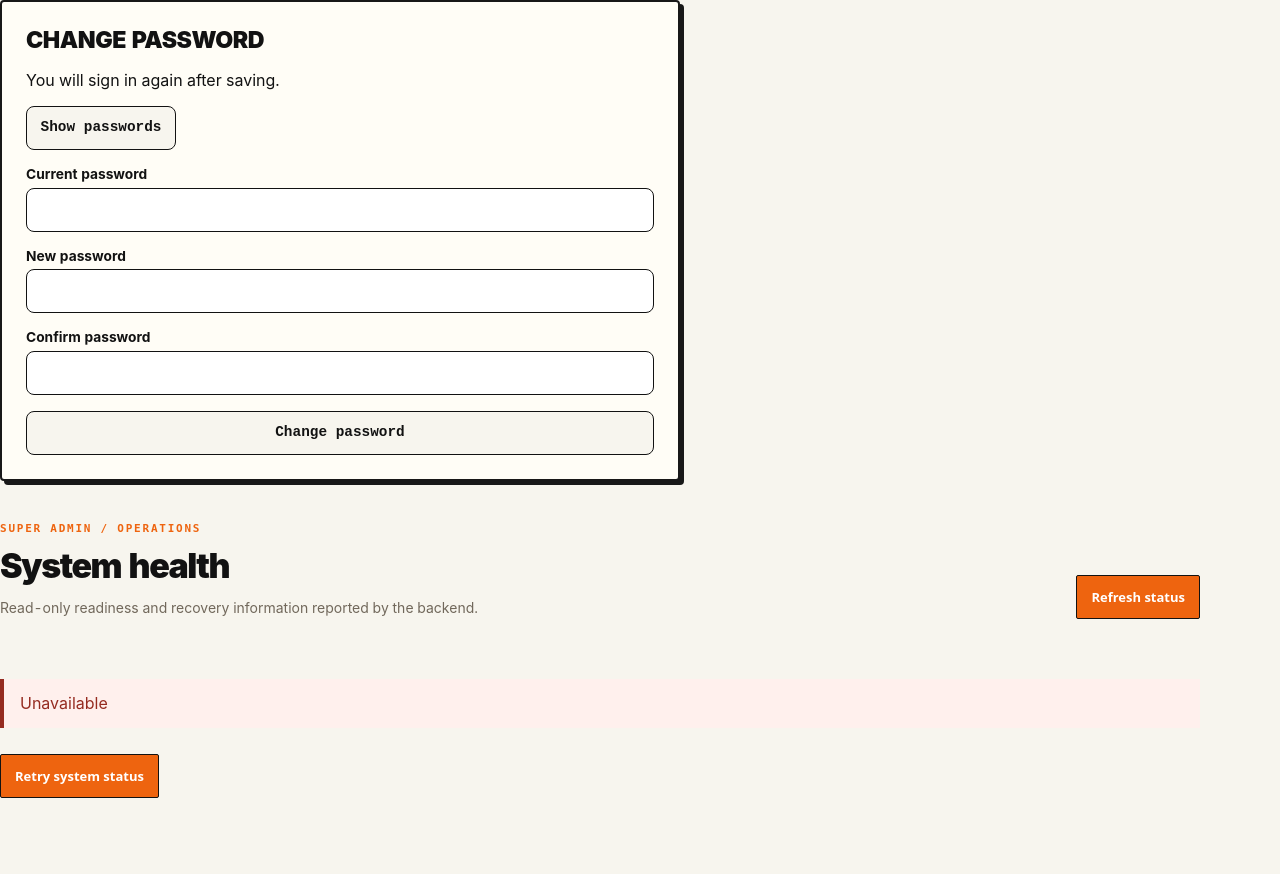
Test: Super Admin system health › retries a temporary system read failure
Check: the message reads "Unavailable", box [20,693,108,713]
Click the button "Retry system status" at (80, 776), box [0,754,159,798]
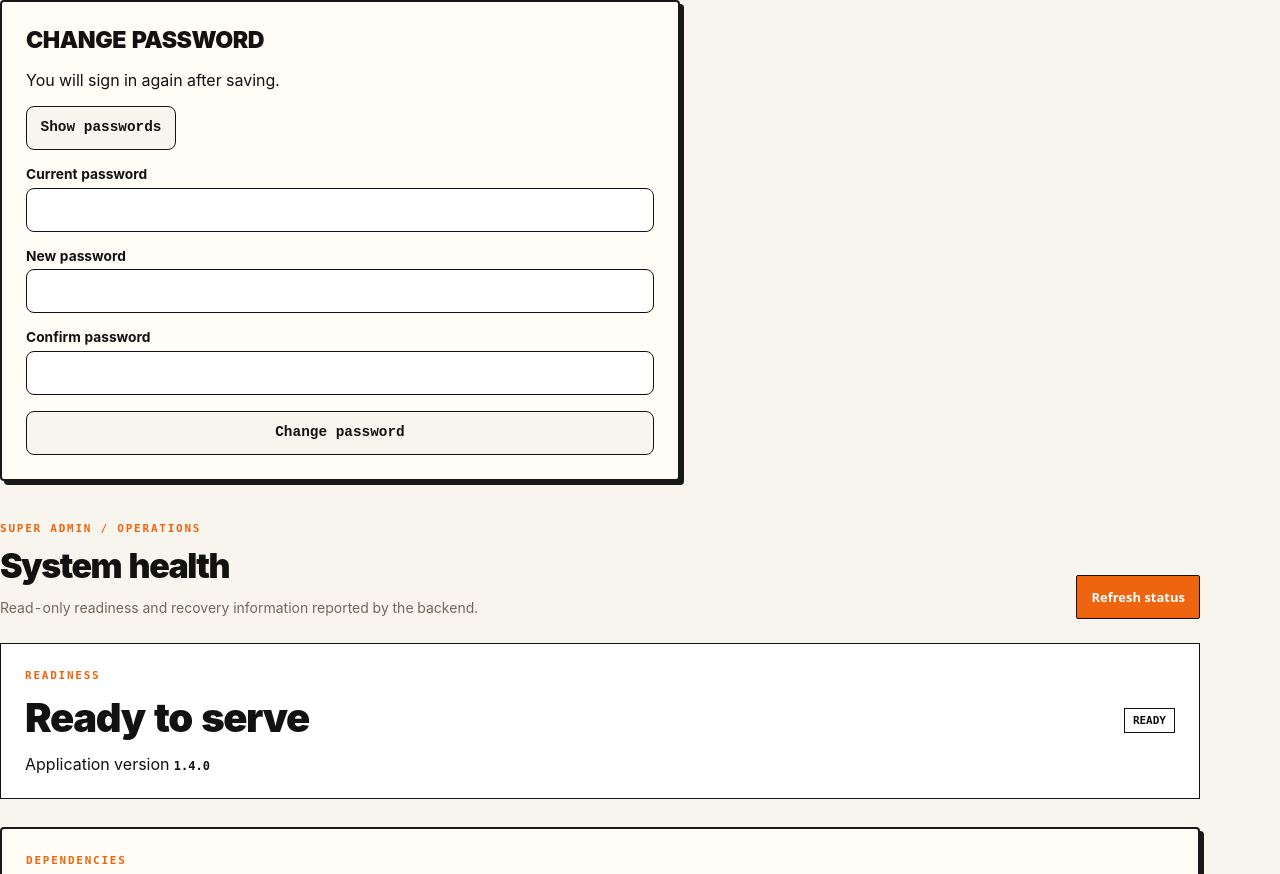
Check: the heading "Ready to serve" is shown, box [25,693,309,742]
